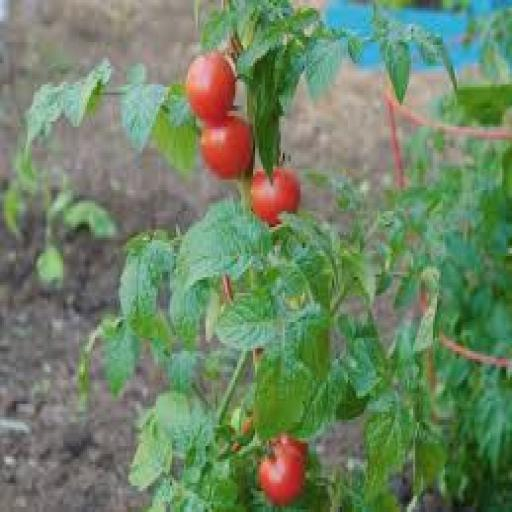tomato: (186, 53, 235, 124), (202, 114, 253, 179), (252, 169, 300, 226), (259, 447, 304, 506), (275, 433, 308, 459)
